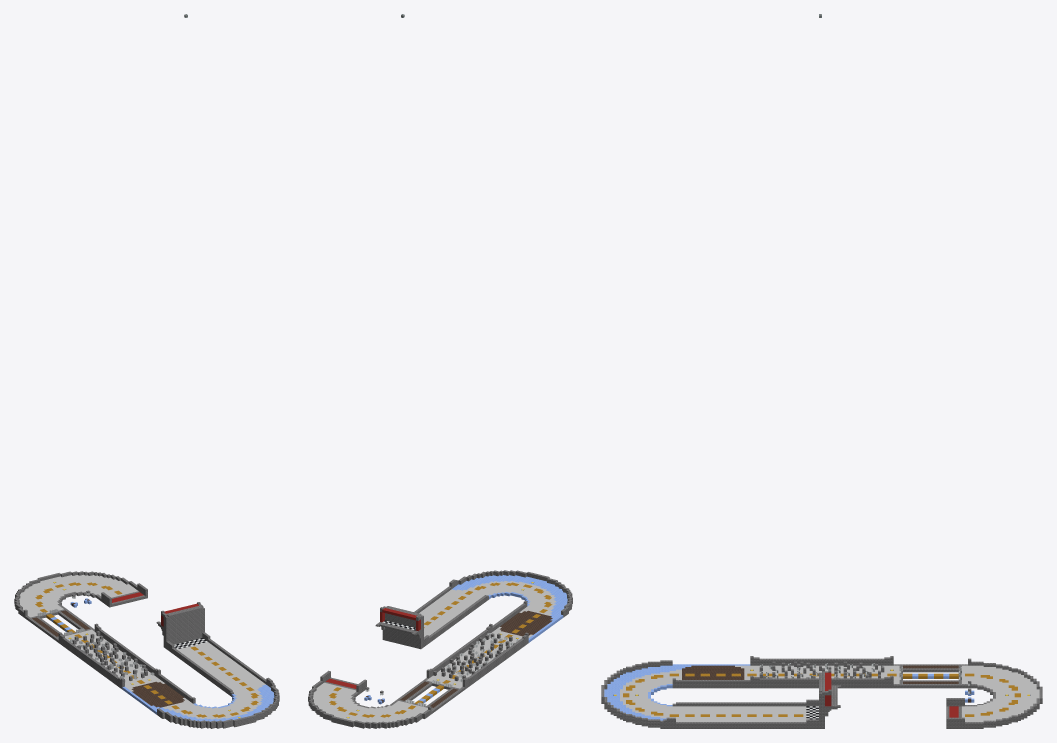
File: minecraft.obj
3 renders of one model, left to right at view 1: azimuth 30°, elevation 25°; view 2: azimuth 150°, elevation 25°; view 3: azimuth 270°, elevation 25°, orthographic. The views are drawn at different scales.
Bounding box in the file's own units: 47 × 250 × 142.
